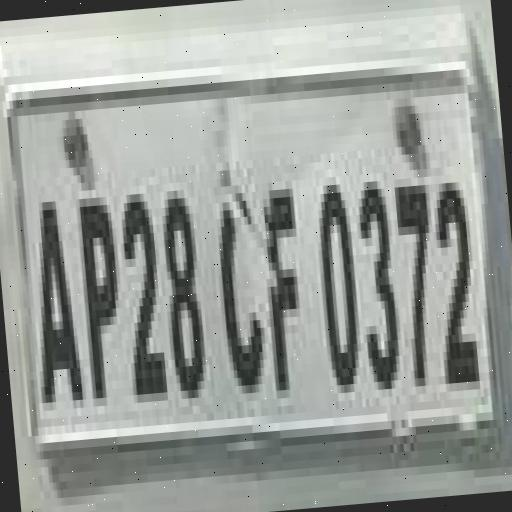number plate: (0, 61, 501, 469)
